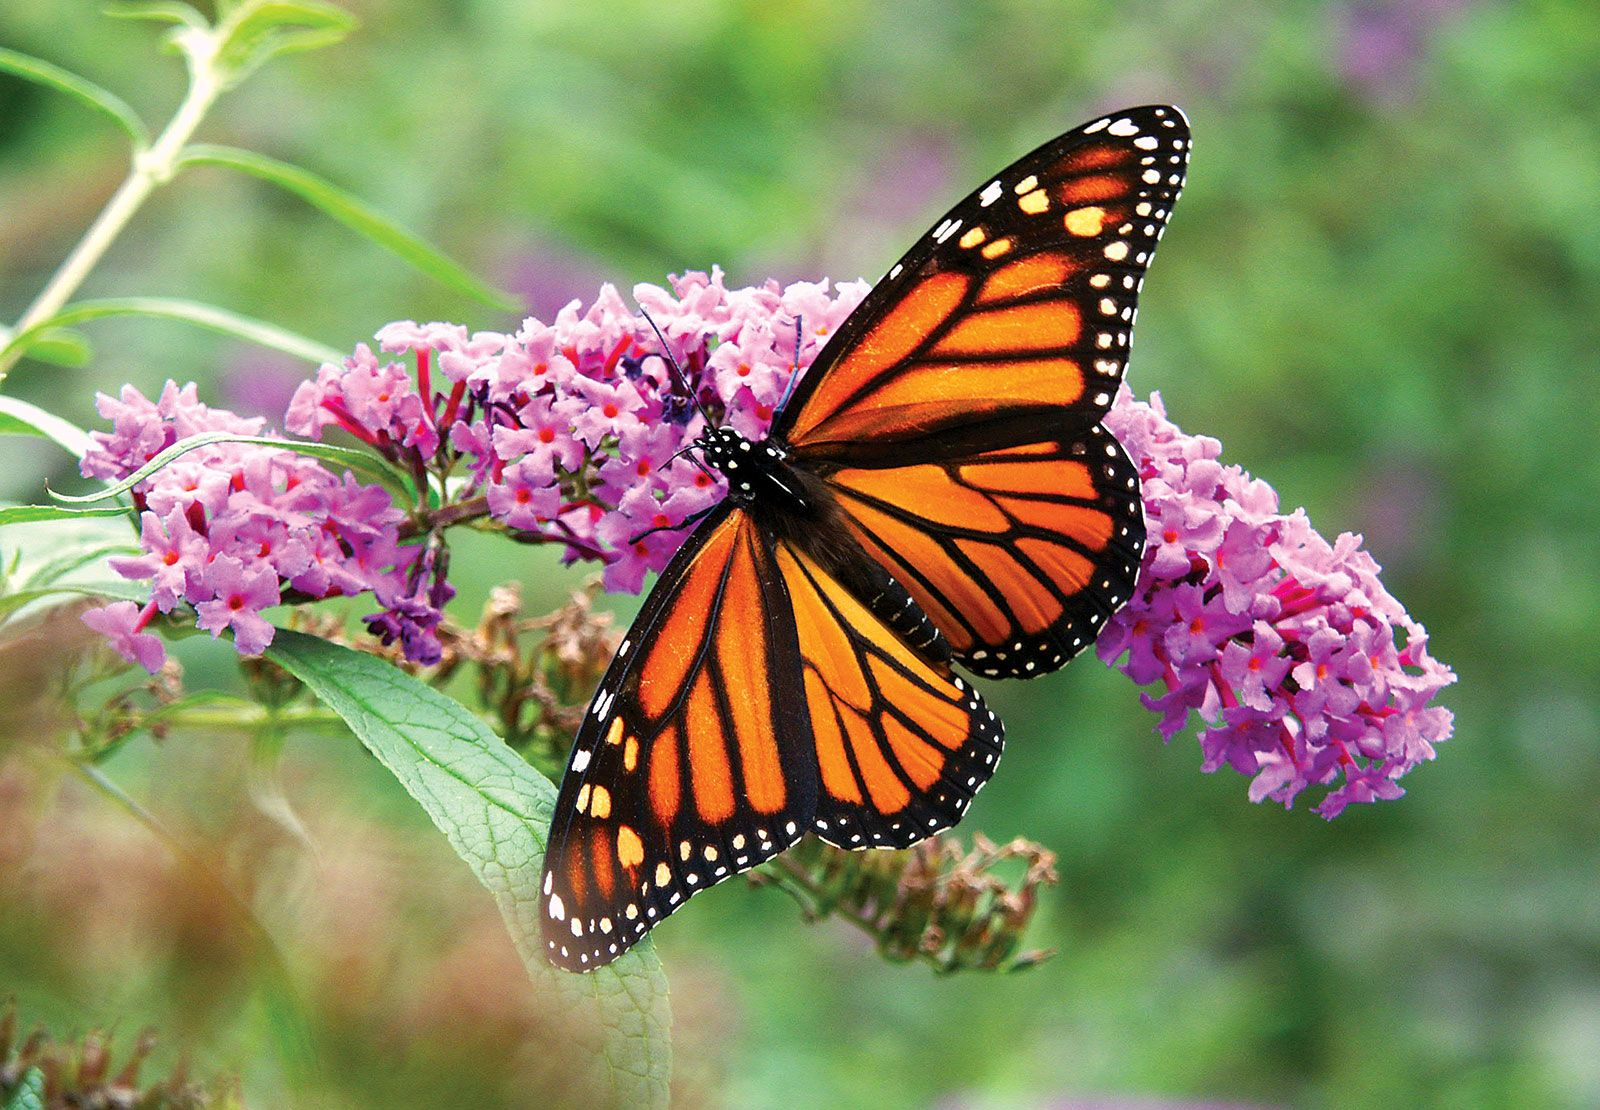Butterfly: (540, 101, 1193, 980)
